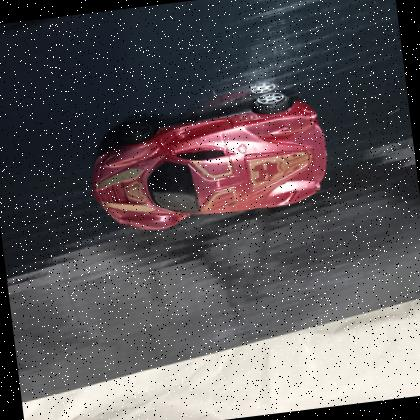Car: (76, 80, 340, 245)
